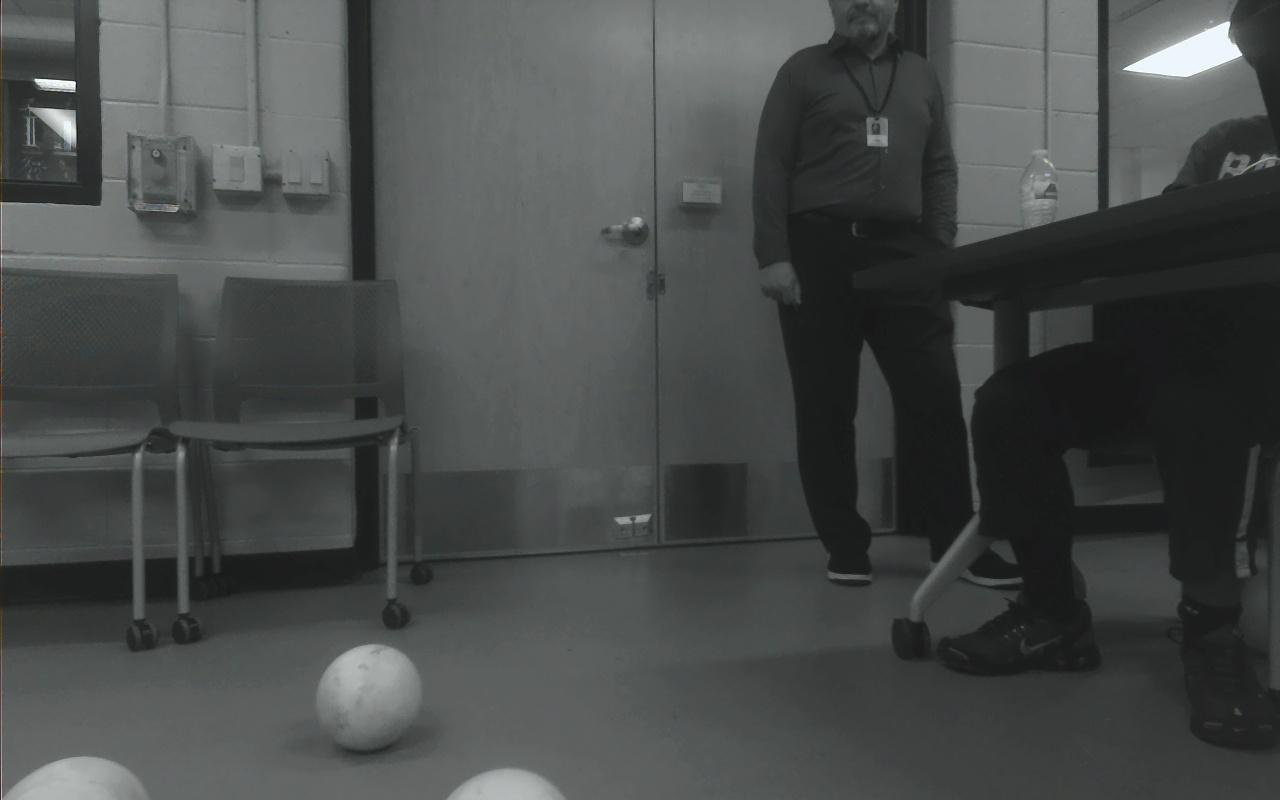Fuel: (315, 644, 422, 753), (6, 756, 150, 800), (447, 766, 566, 800)
